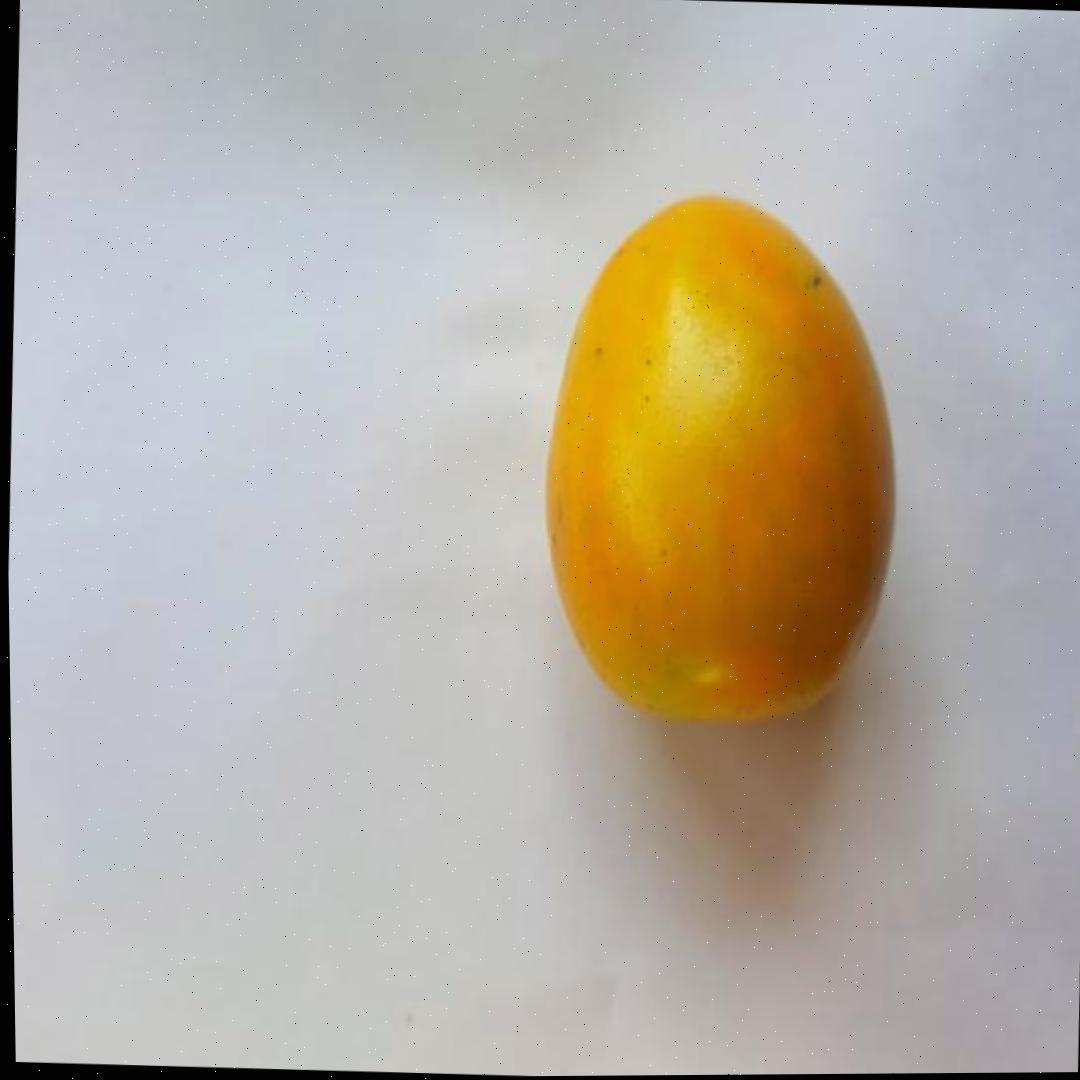setengah_matang: (525, 185, 911, 734)
